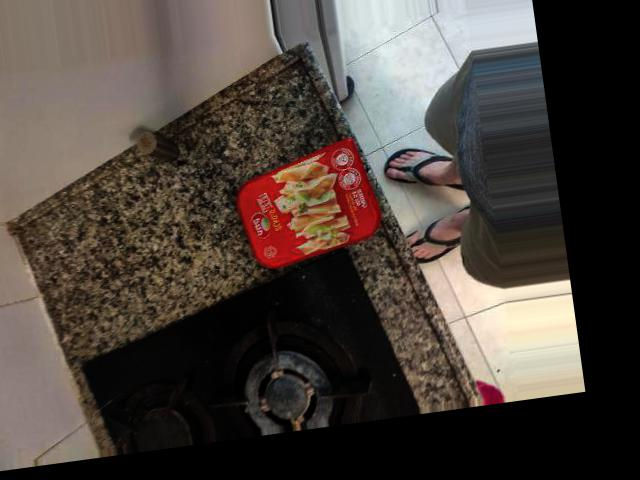cheese: (226, 124, 396, 278)
